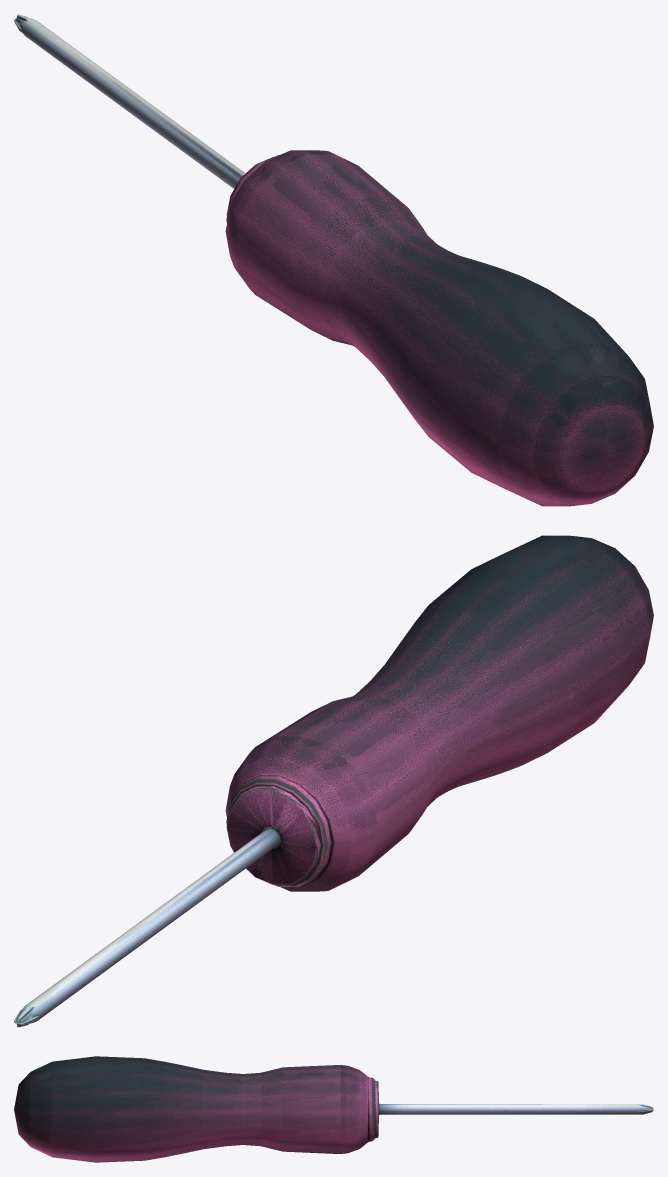
The model's file is pip2_screwdriver_bm.fbx.
The picture shows the model from 3 angles, top to bottom: view 1: azimuth 30°, elevation 25°; view 2: azimuth 150°, elevation 25°; view 3: azimuth 270°, elevation 25°; orthographic projection. The views are drawn at different scales.
Parts seen in each view (by area): view 1: screwdriver; view 2: screwdriver; view 3: screwdriver.
Boxes of the visible parts, x1=… form: screwdriver: x1=14, y1=14, x2=653, y2=506; screwdriver: x1=14, y1=535, x2=653, y2=1027; screwdriver: x1=14, y1=1056, x2=653, y2=1162.
Bounding box in the file's own units: 2.68 × 2.68 × 16.07.
Materials: 2 (2 with a texture image).
